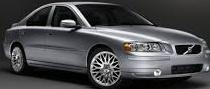Cars: (6, 5, 209, 89)
